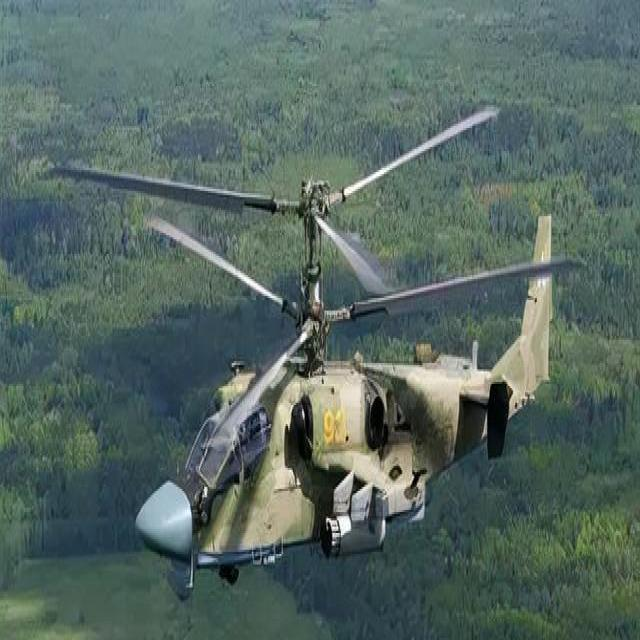MIL_HELO: (35, 105, 593, 595)
